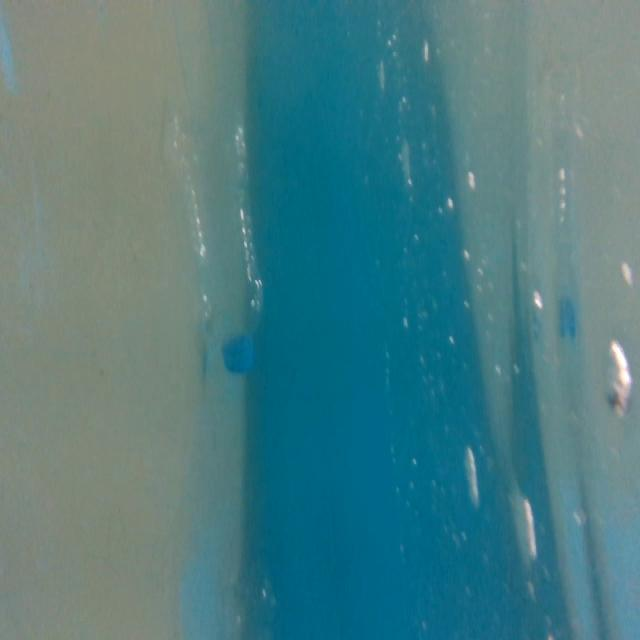plastic bottle: (160, 93, 275, 383)
